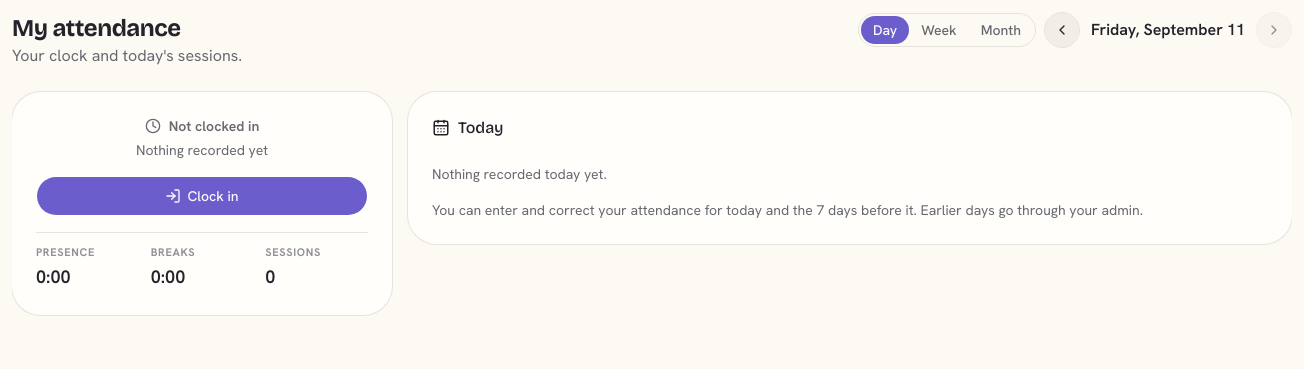
Test: MyAttendanceScreen › a day and the self-service window › offers a correction on an earlier day inside the window
This screenshot has width=1304, height=369.
Click the button named "Previous": click(1062, 30) [1044,12,1080,48]
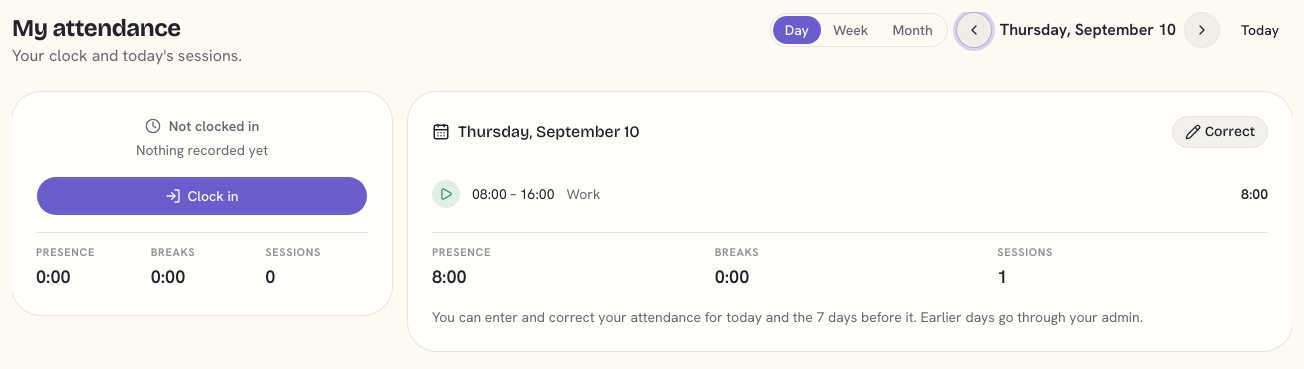
Check: the text "You can enter and correct your attendance for today and the 7 days before it. Earlier days go through your admin." is shown, box [432,308,1143,326]
Check: the button "Correct" is shown, box [1172,116,1268,148]
